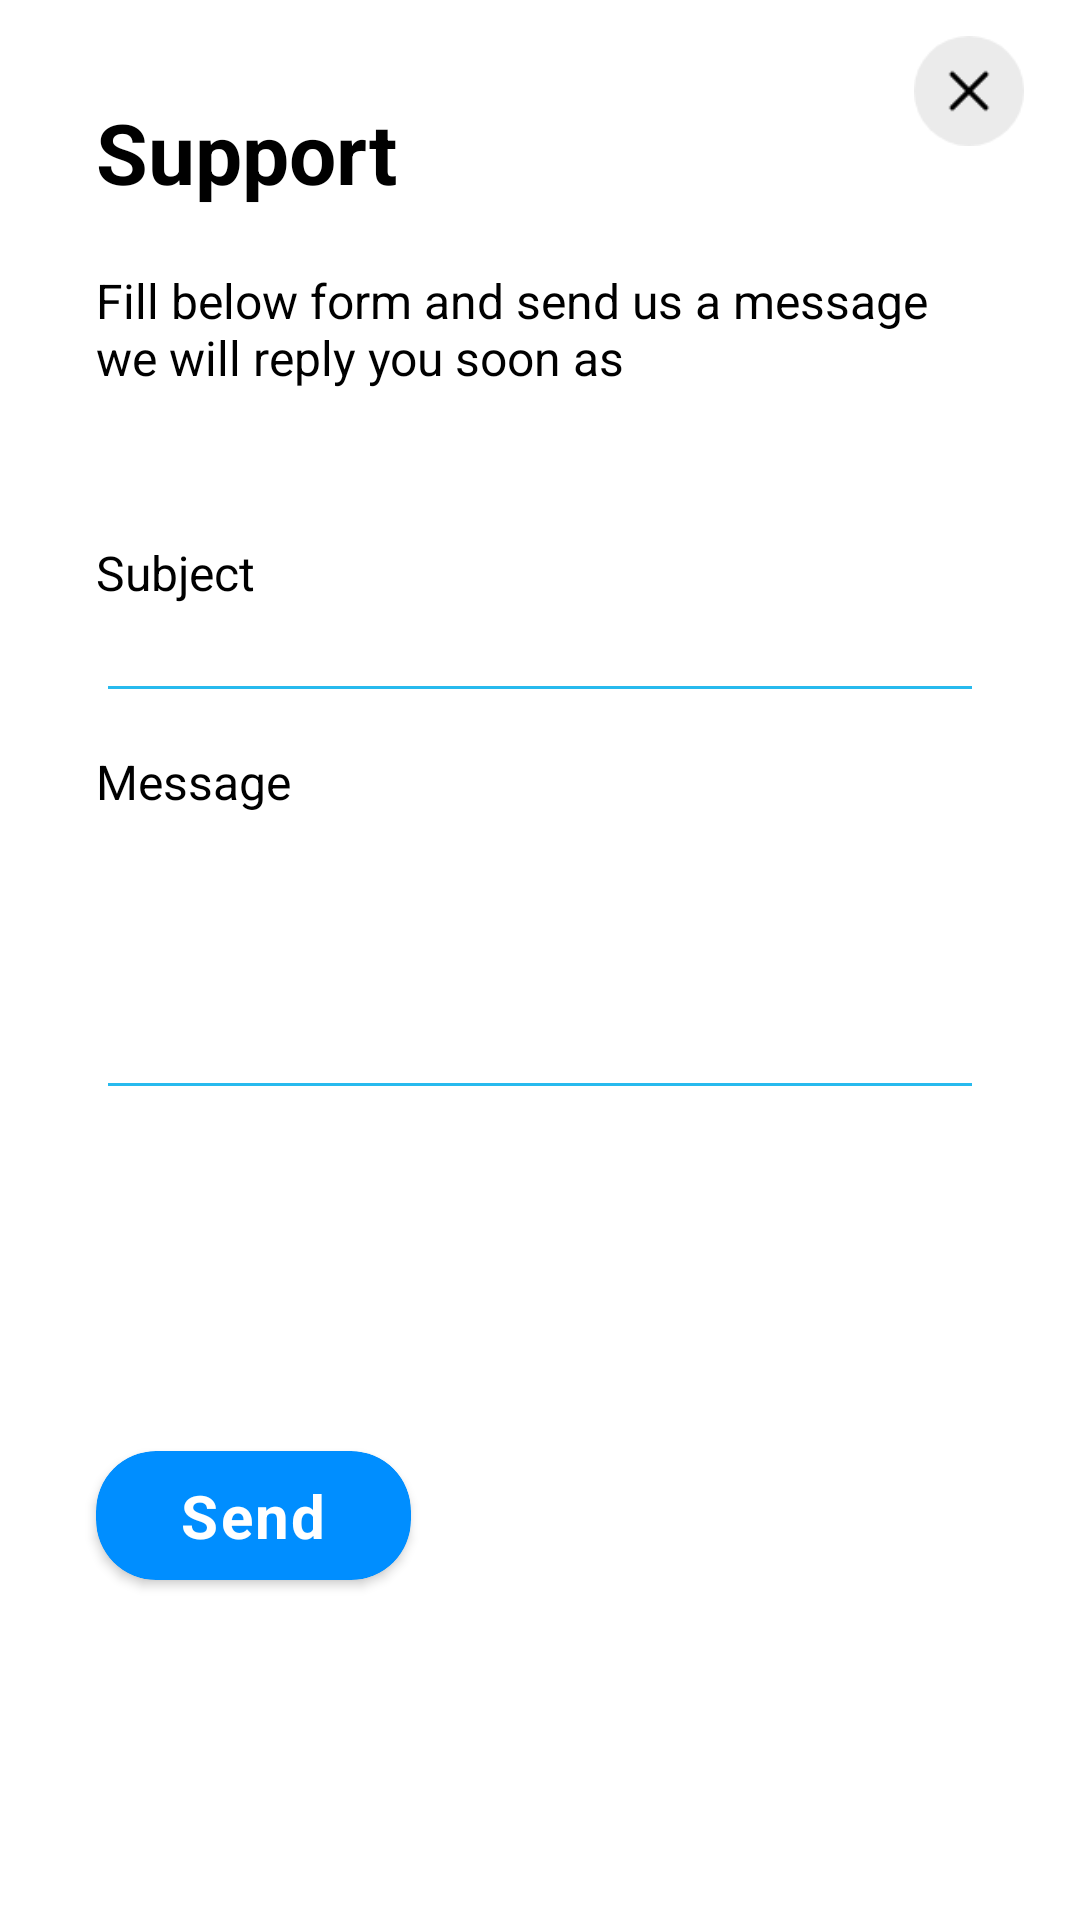

Icon click points for this 1080px x 1920px phone screenshot, format point (x, y):
closearrow: point (969, 91)
